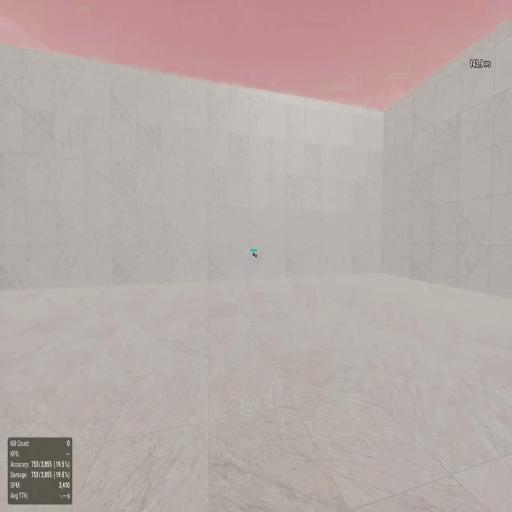Crosshair: (255, 254, 257, 258)
Target: (253, 252, 255, 256)
